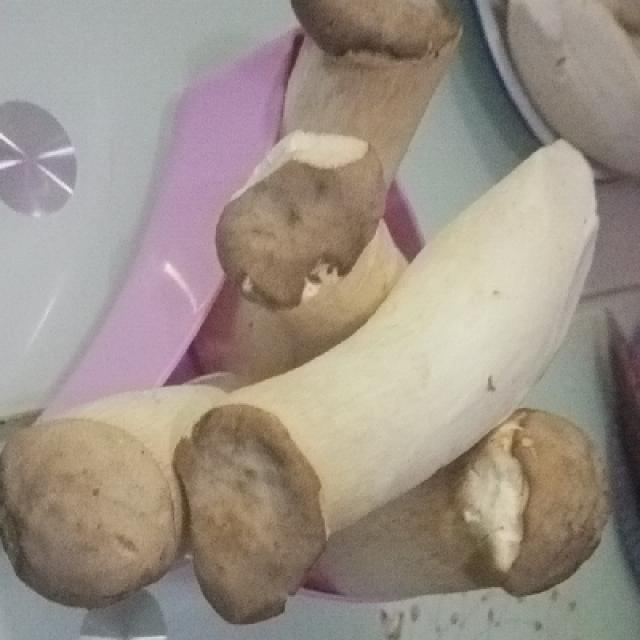Pleurotus eryngii: (0, 126, 606, 620)
